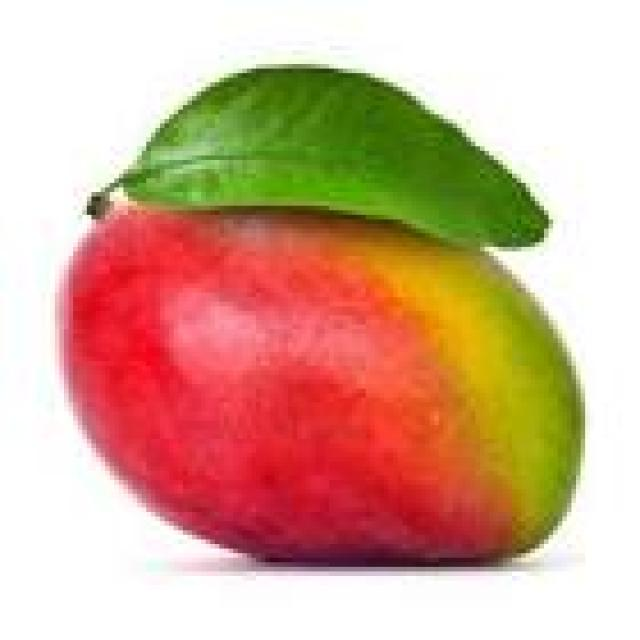mango: (65, 66, 584, 562)
